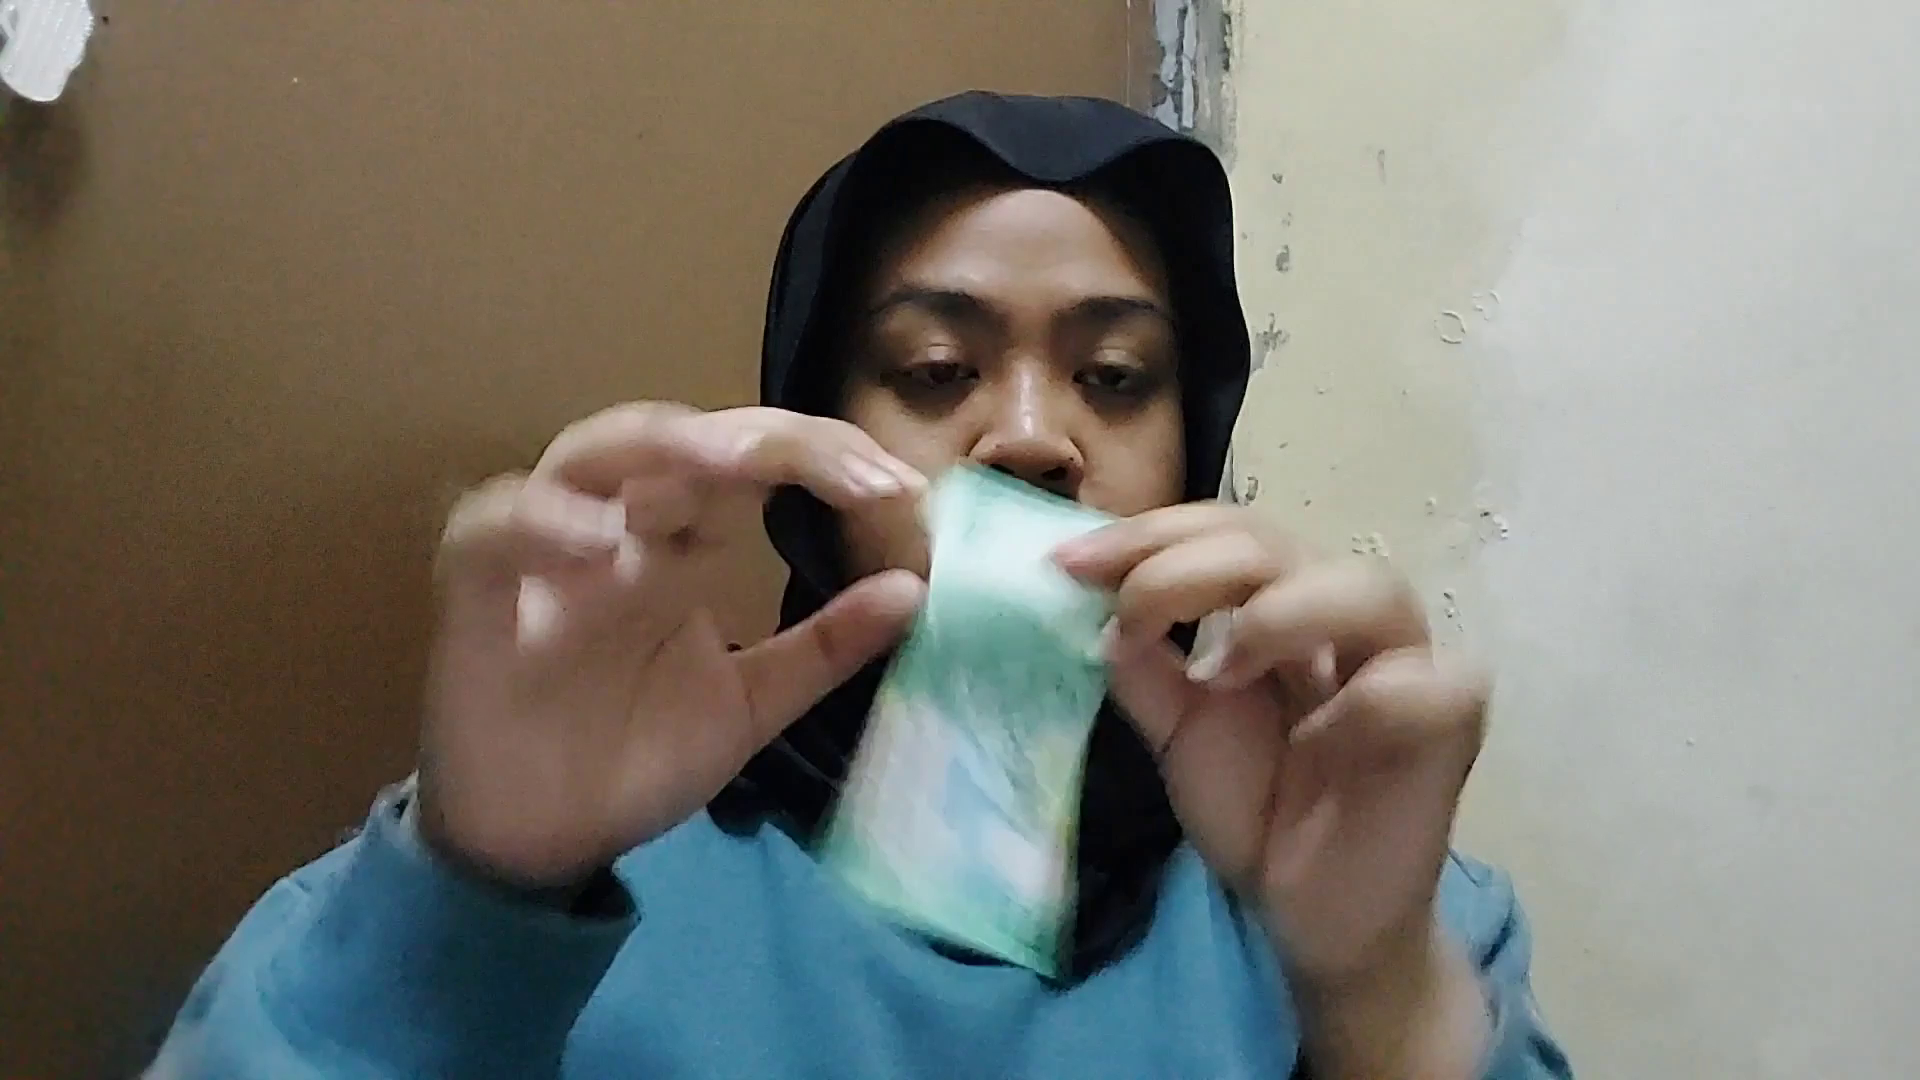20k: (952, 458, 1159, 943)
